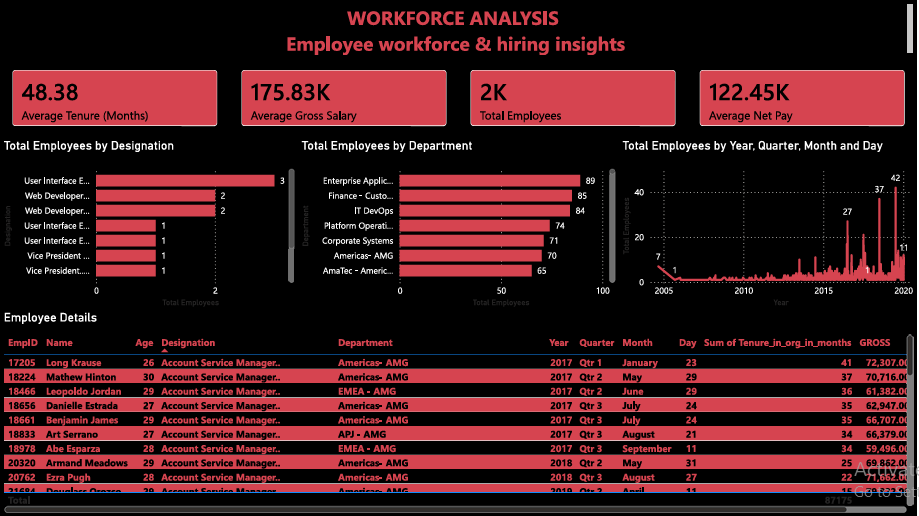

This screenshot's page, from the dashboard's own definition file:
{"tool":"powerbi","page":{"name":"Page 3","canvas":[1280,720],"ordinal":2},"visuals":[{"type":"textbox","box":[0,0,1280,80],"z":0},{"type":"cardVisual","fields":{"Data":["Measure.Total Employees"]},"box":[640,80,320,112],"z":1},{"type":"cardVisual","fields":{"Data":["Measure.Average Net Pay"]},"box":[960,80,320,112],"z":2},{"type":"cardVisual","fields":{"Data":["Measure.Average Gross Salary"]},"box":[320,80,320,112],"z":3},{"type":"cardVisual","fields":{"Data":["Measure.Average Tenure (Months)"]},"box":[0,80,320,112],"z":4},{"type":"lineChart","fields":{"Y":["Measure.Total Employees"],"Category":["NW.Join_Date.Variation.Date Hierarchy.Year","NW.Join_Date.Variation.Date Hierarchy.Quarter","NW.Join_Date.Variation.Date Hierarchy.Month","NW.Join_Date.Variation.Date Hierarchy.Day"]},"box":[864,192,416,240],"z":5},{"type":"barChart","fields":{"Y":["Measure.Total Employees"],"Category":["NW.Designation"]},"box":[0,192,416,240],"z":6},{"type":"barChart","fields":{"Category":["NW.Department"],"Y":["Measure.Total Employees"]},"box":[416,192,448,240],"z":7},{"type":"tableEx","title":"Employee Details","fields":{"Values":["NW.EmpID","NW.Name","NW.Age","NW.Designation","NW.Department","NW.Join_Date.Variation.Date Hierarchy.Year","NW.Join_Date.Variation.Date Hierarchy.Quarter","NW.Join_Date.Variation.Date Hierarchy.Month","NW.Join_Date.Variation.Date Hierarchy.Day","Sum(NW.Tenure_in_org_in_months)","NW.GROSS","NW.Net_Pay"]},"box":[0,432,1280,288],"z":8}]}

Visuals, with their boxes on the page's 1280x720 design canvas (x1, y1, x2, y2). These are canvas units, not pixel positions in the 919x516 screenshot, which may show the page scaled, cropped or inside an application window:
textbox: 0,0,1280,80
cardVisual - Measure.Total Employees: 640,80,960,192
cardVisual - Measure.Average Net Pay: 960,80,1280,192
cardVisual - Measure.Average Gross Salary: 320,80,640,192
cardVisual - Measure.Average Tenure (Months): 0,80,320,192
lineChart - Measure.Total Employees x NW.Join_Date.Variation.Date Hierarchy.Year: 864,192,1280,432
barChart - Measure.Total Employees x NW.Designation: 0,192,416,432
barChart - NW.Department x Measure.Total Employees: 416,192,864,432
"Employee Details" tableEx: 0,432,1280,720
